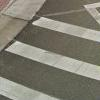Crosswalk: (13, 13, 99, 100)
